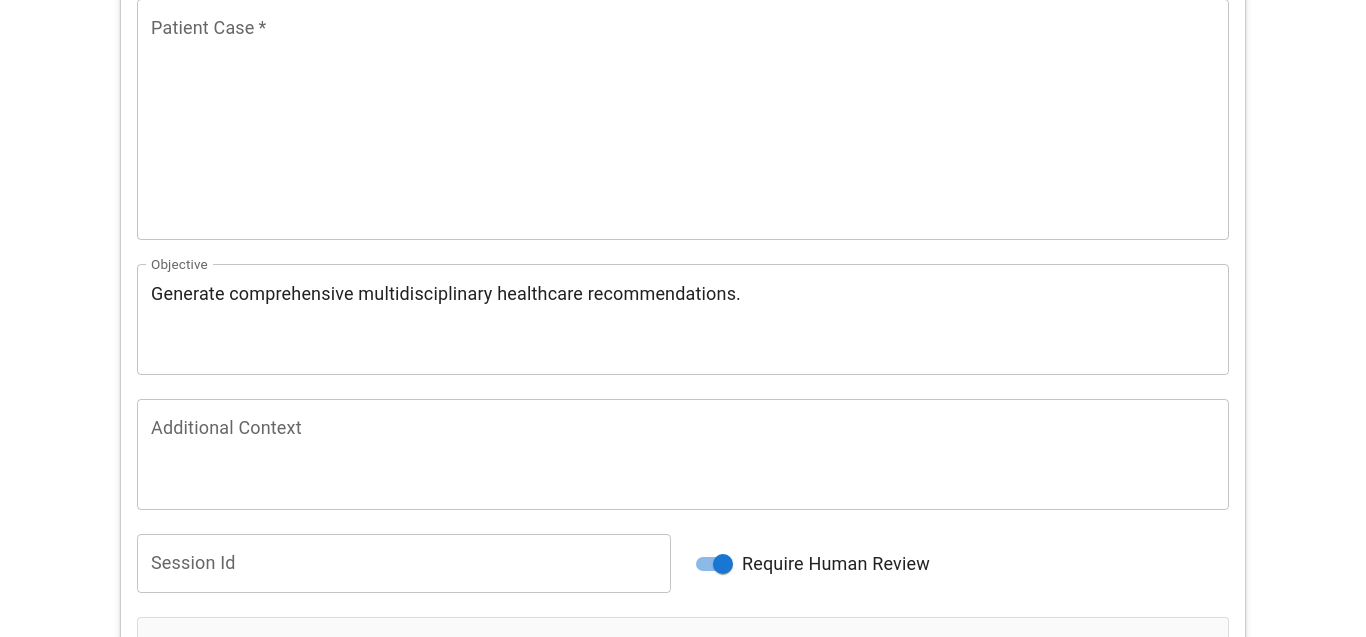
it: PlatformAnalysisForm › updates session summary
Type "ABC123" into the field labelled "Session Id" at (404, 564), box [137,534,671,593]
(page scrolled)
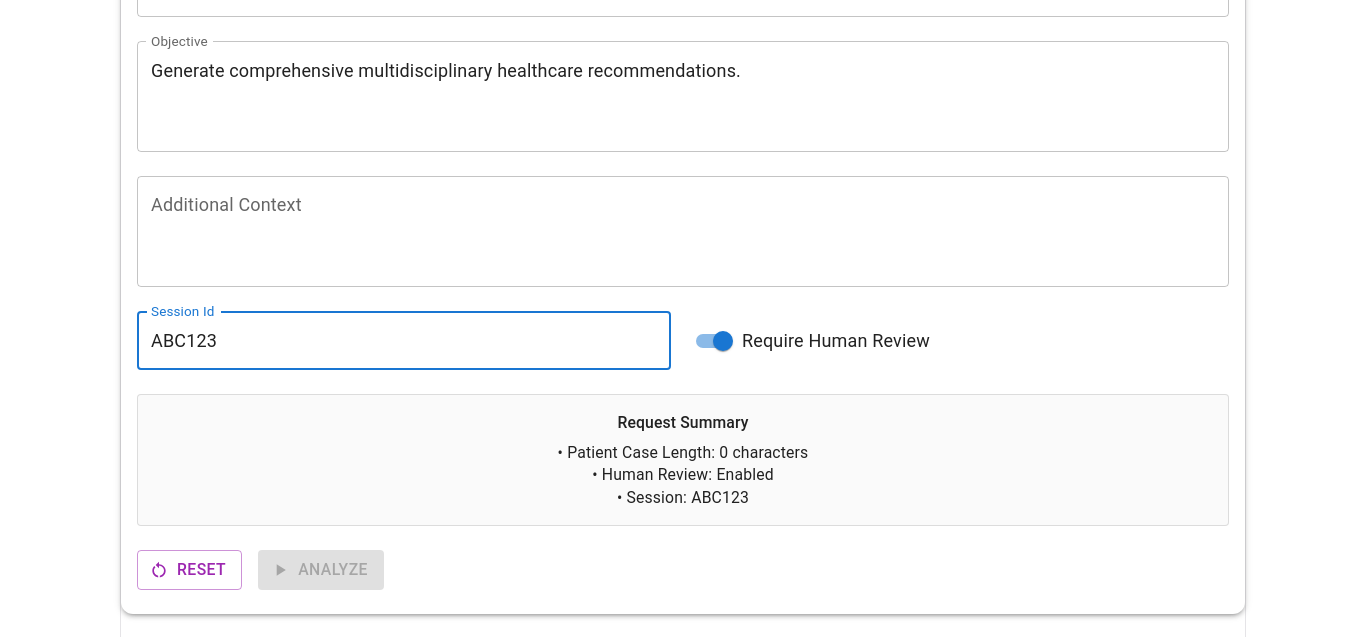
Expected: the text "• Session: ABC123" is shown, [617,488,749,507]
